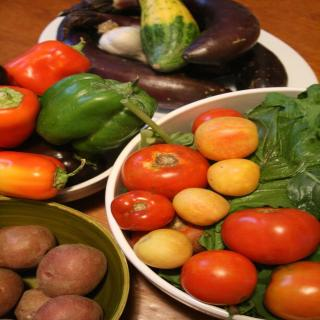tomato: (216, 204, 320, 265), (177, 248, 257, 312), (121, 143, 205, 199), (258, 259, 320, 320), (112, 190, 172, 235)
